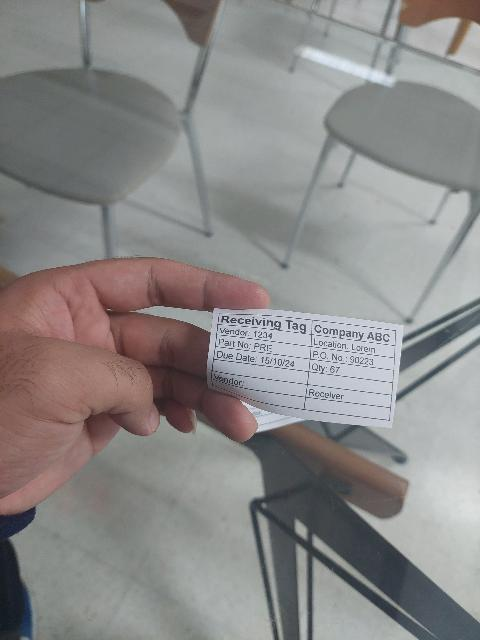PO no: (310, 346, 394, 371)
part no: (215, 335, 312, 360)
qty: (309, 359, 393, 383)
tags: (207, 307, 403, 429)
